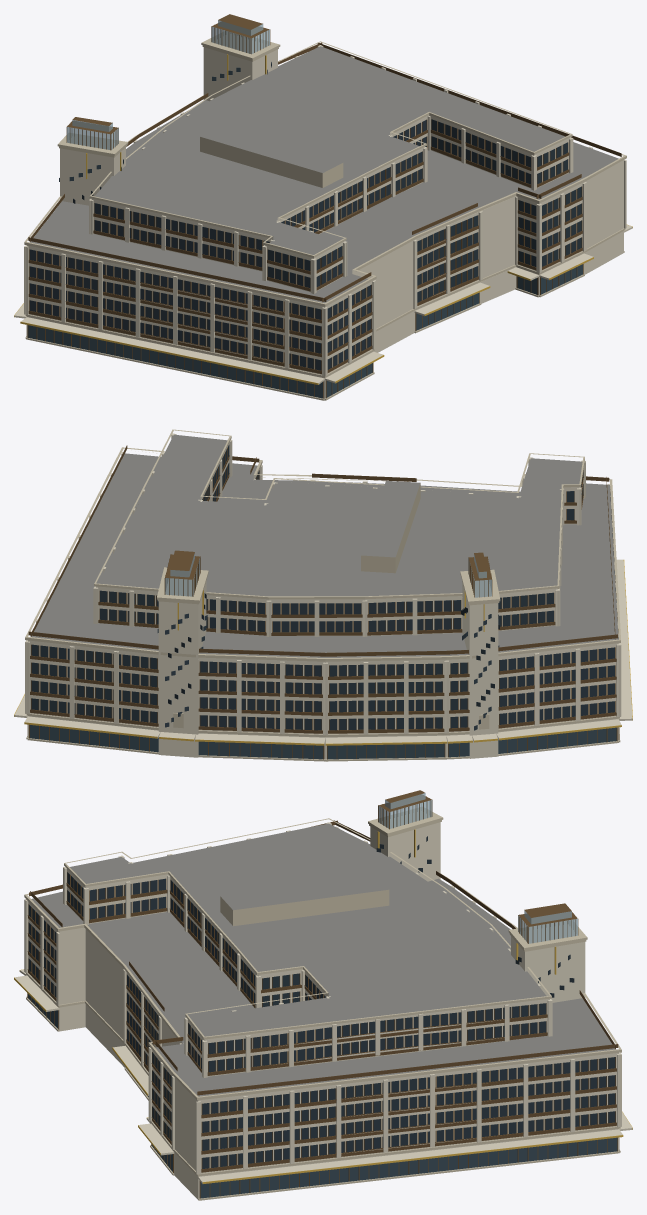
The model's file is barkers_building.glb.
3 renders of one model, top to bottom at view 1: azimuth 30°, elevation 25°; view 2: azimuth 150°, elevation 25°; view 3: azimuth 270°, elevation 25°, orthographic. The views are drawn at different scales.
Size of the model in its own units: 116 by 35.04 by 106.
